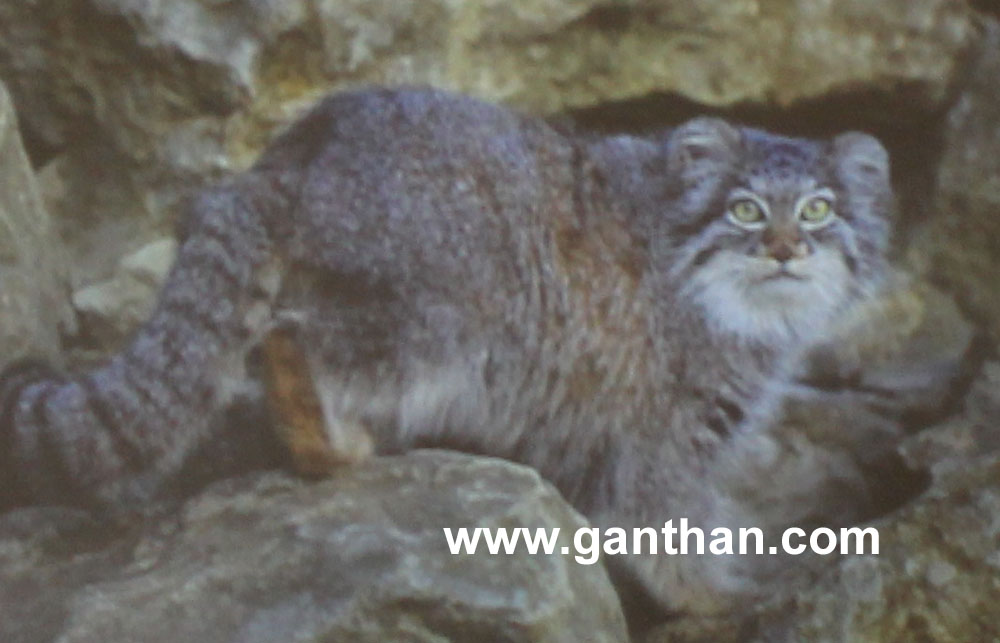cat: (7, 52, 921, 561)
